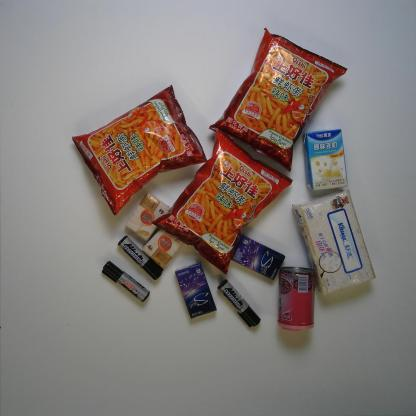Canned Food: (274, 263, 320, 335)
Gum: (229, 233, 287, 282), (172, 261, 218, 321)
Milk: (299, 127, 351, 192)
Puffed Food: (150, 126, 295, 277), (208, 24, 350, 175), (67, 83, 209, 219)
Stationery: (216, 278, 262, 330), (116, 234, 166, 281), (100, 260, 151, 304)
Tissue: (290, 186, 378, 299), (122, 190, 174, 243), (140, 227, 186, 270)
